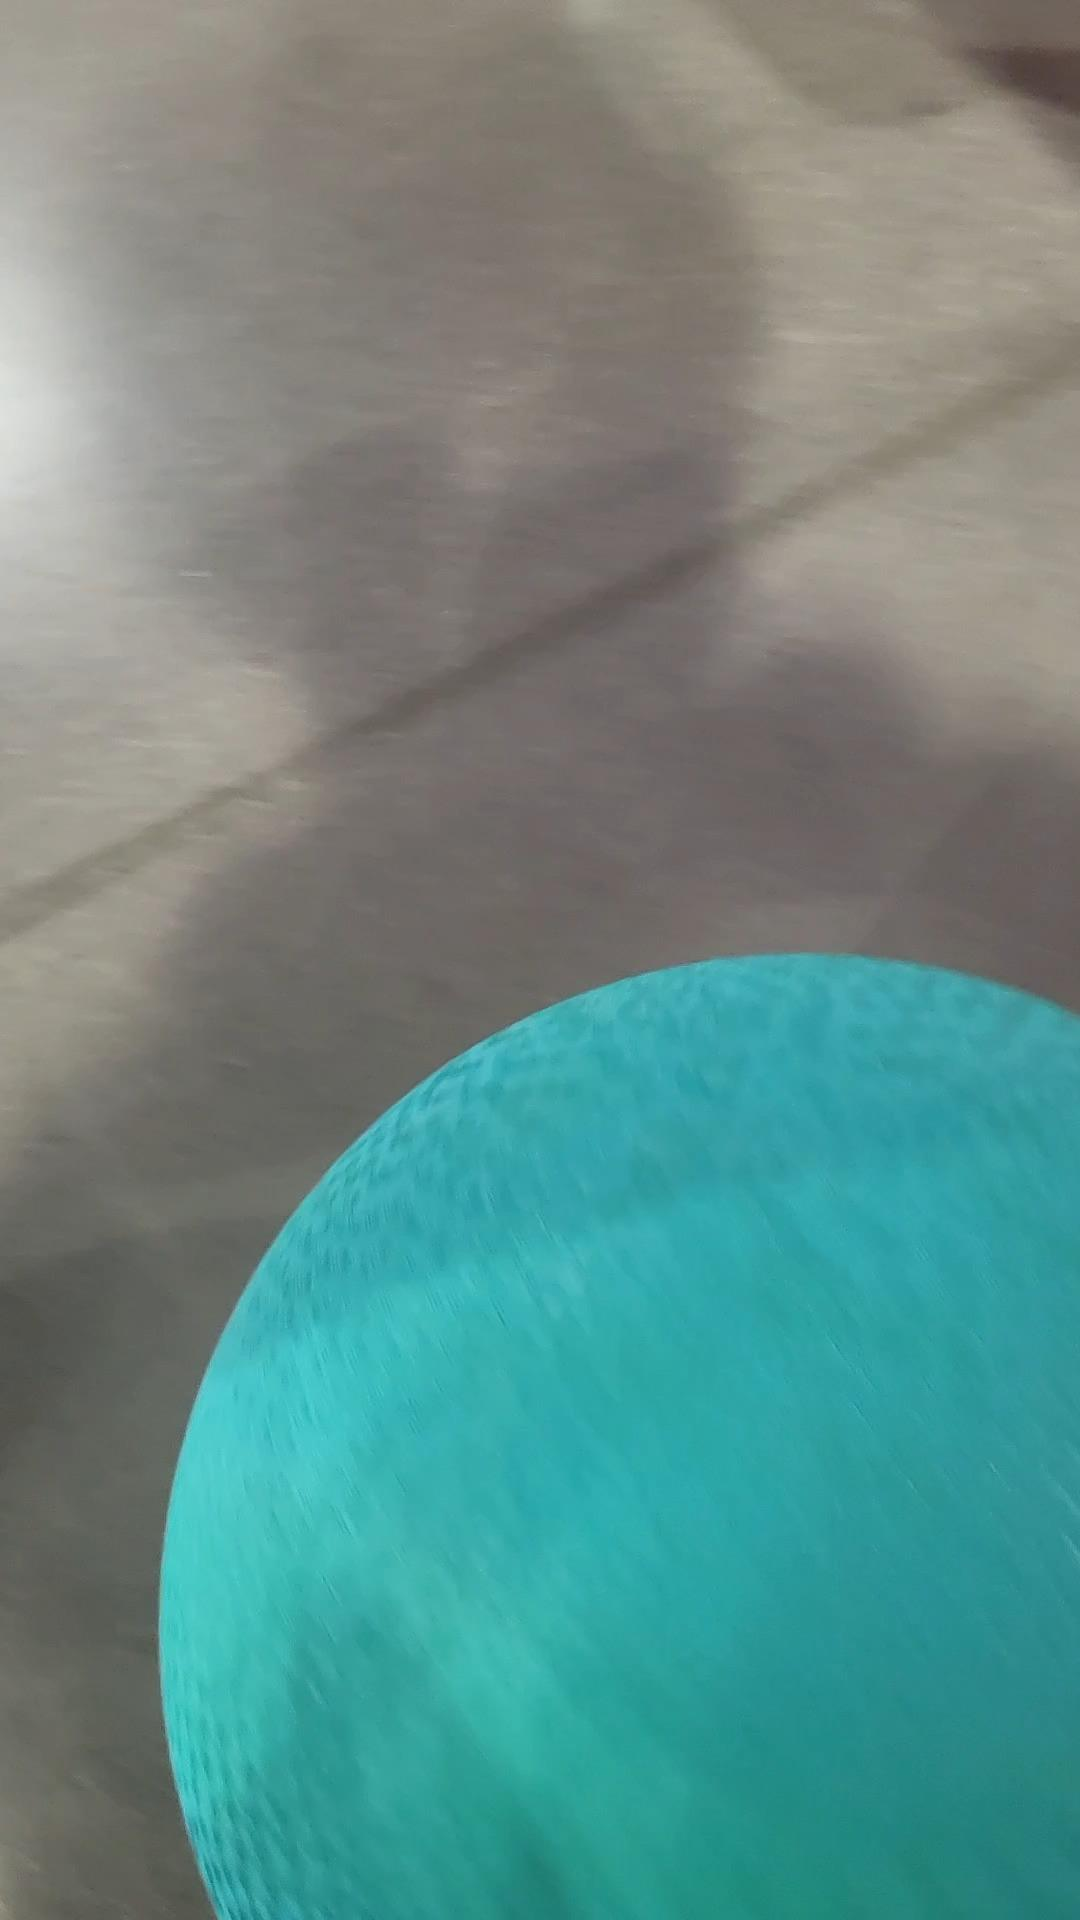algae: (161, 956, 1080, 1920)
